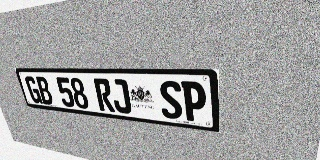5: (55, 77, 76, 108)
8: (69, 78, 90, 109)
B: (35, 76, 54, 105)
G: (24, 76, 43, 104)
J: (109, 79, 132, 114)
P: (181, 81, 206, 123)
R: (93, 78, 115, 112)
S: (158, 80, 183, 120)
